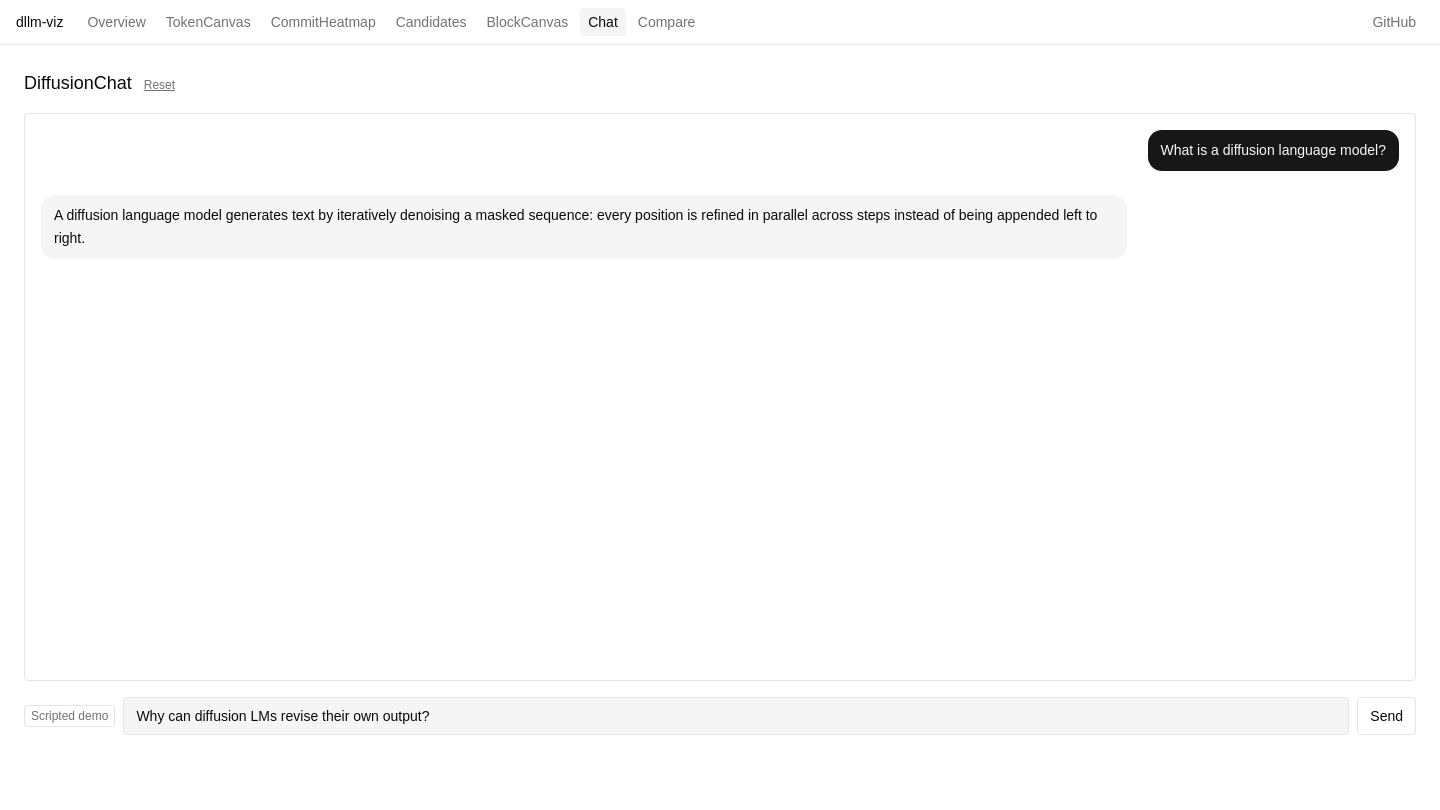
Test: App › reset restores the initial scripted-demo state
This screenshot has width=1440, height=810.
What coordinates should you click on to do the following:
click the button "Send"
I would click on:
 (1387, 716)
Its box is x1=1357 y1=697 x2=1416 y2=735.
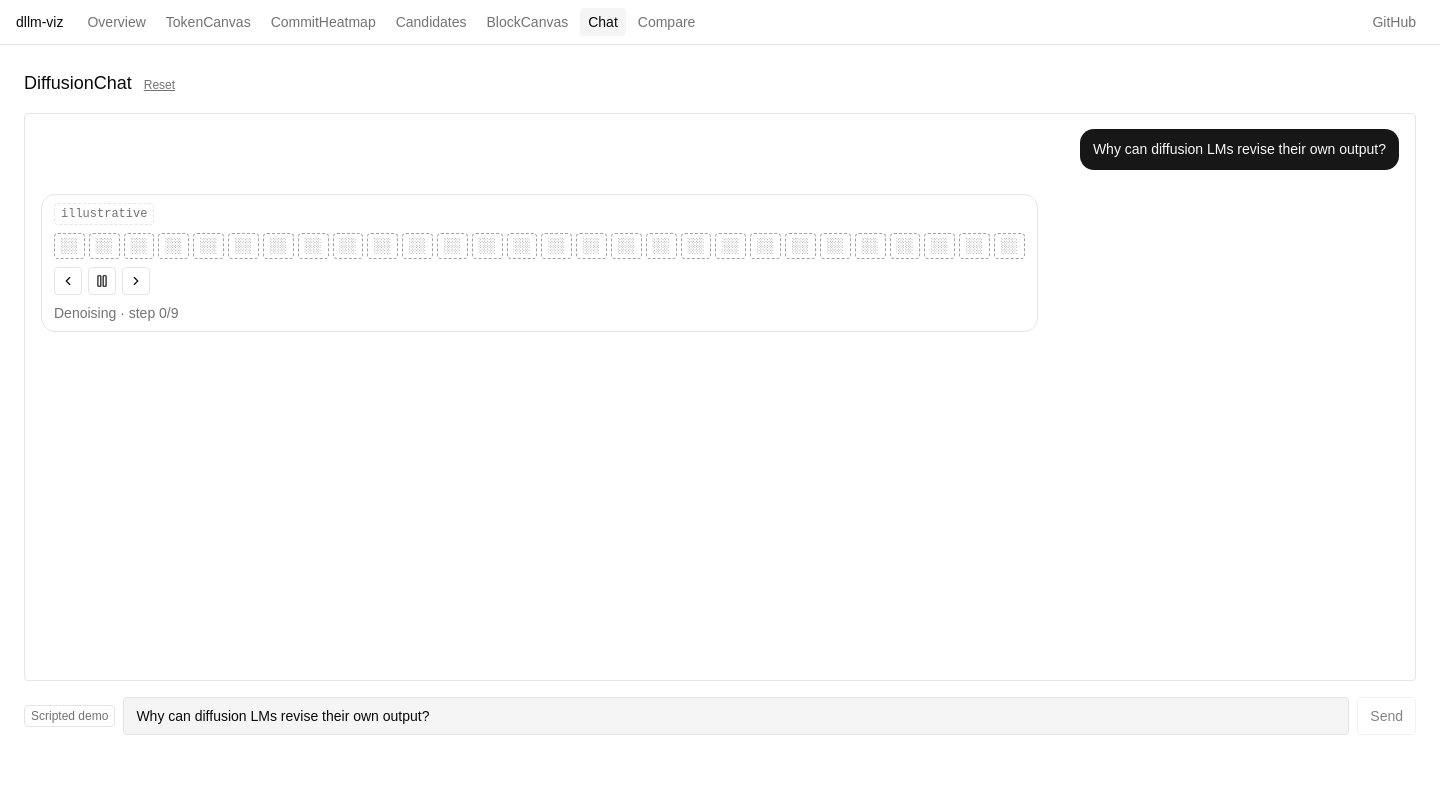
# Pause the autoplaying replay so real timers stay quiet (see above).
What coordinates should you click on to do the following:
click the button named "Pause replay"
I would click on:
 (102, 281)
Its box is x1=88 y1=267 x2=116 y2=295.
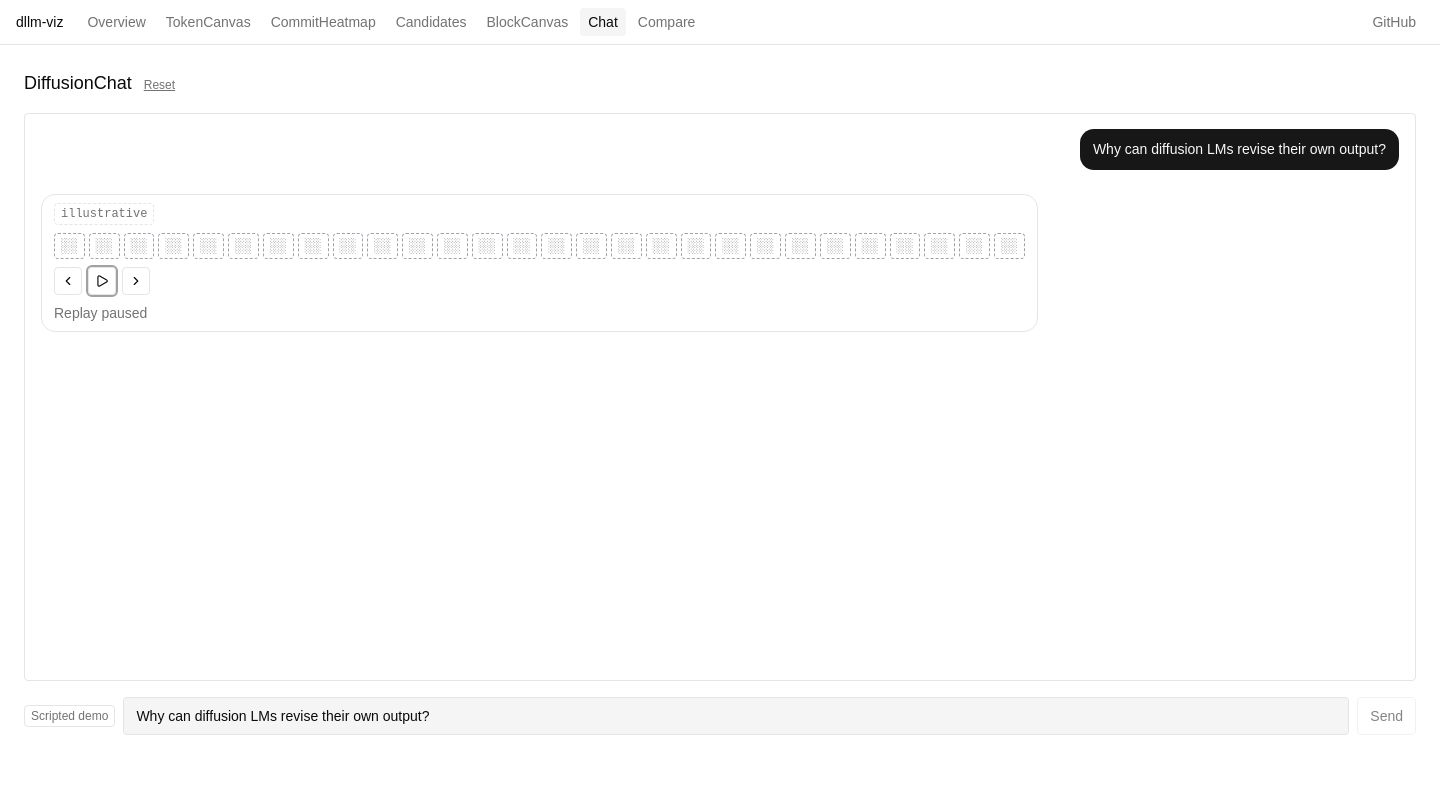
What coordinates should you click on to do the following:
click the button "Reset"
I would click on:
 (159, 85)
Its box is x1=144 y1=77 x2=175 y2=93.
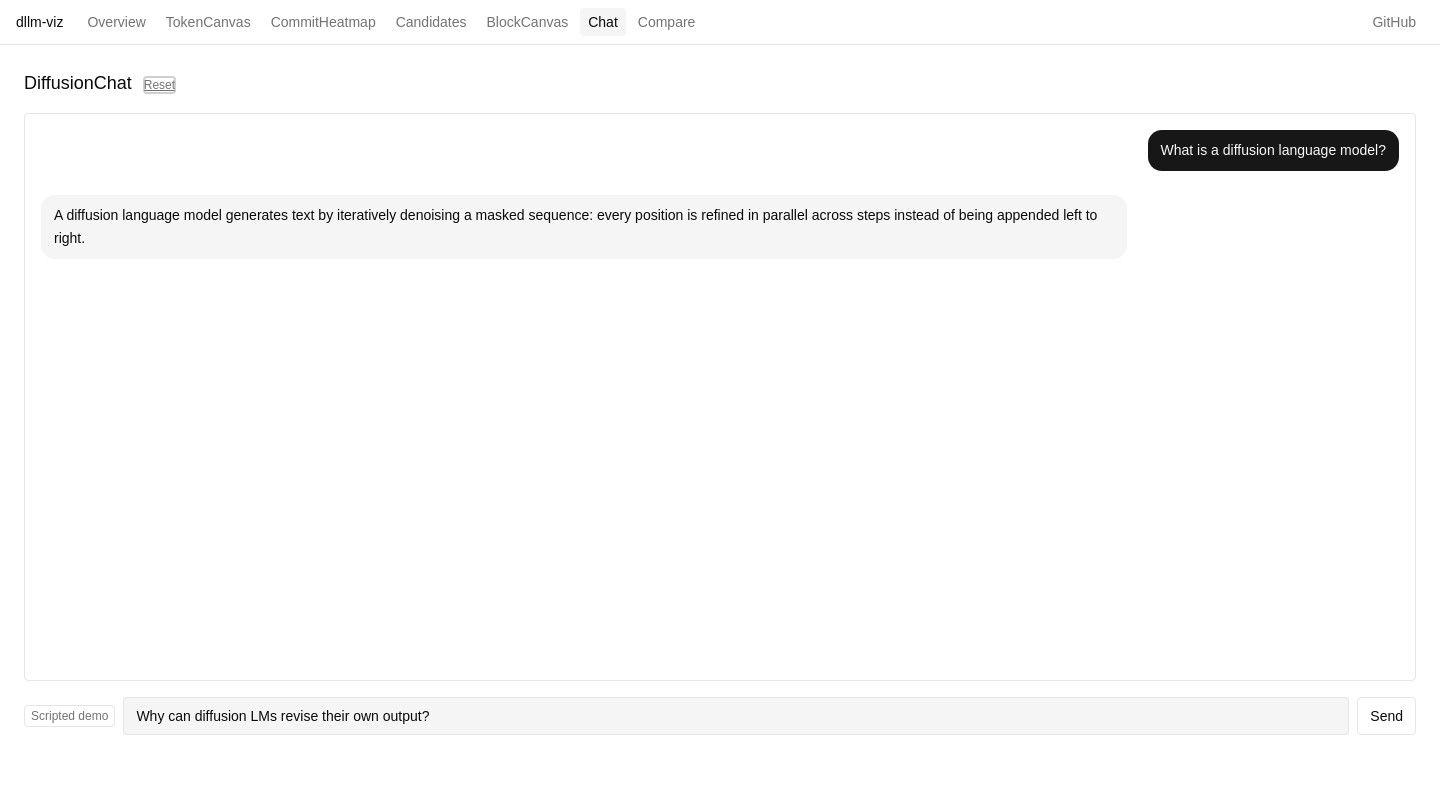
Result: the button "Send" is enabled at x1=1357 y1=697 x2=1416 y2=735
